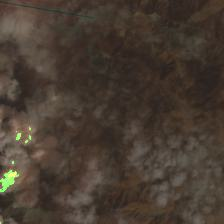landslides: (49, 2, 72, 20), (14, 163, 37, 180), (2, 169, 14, 190), (92, 30, 111, 43), (190, 29, 199, 46), (99, 33, 114, 42), (87, 73, 100, 83), (45, 156, 53, 169), (122, 76, 139, 82)
